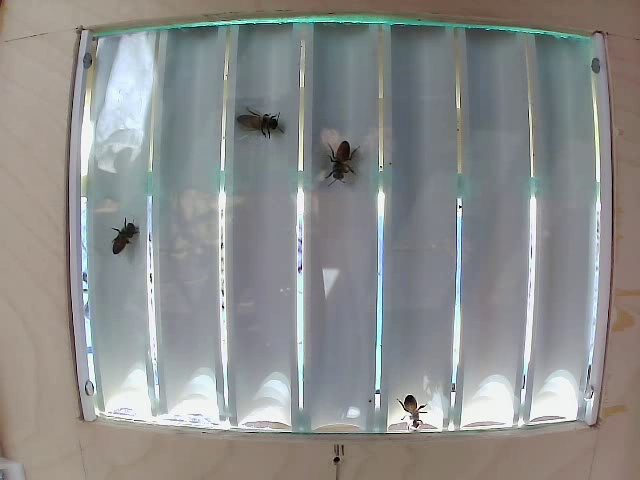bee: (237, 98, 286, 153), (111, 203, 155, 261), (393, 382, 436, 437), (326, 136, 358, 190)
